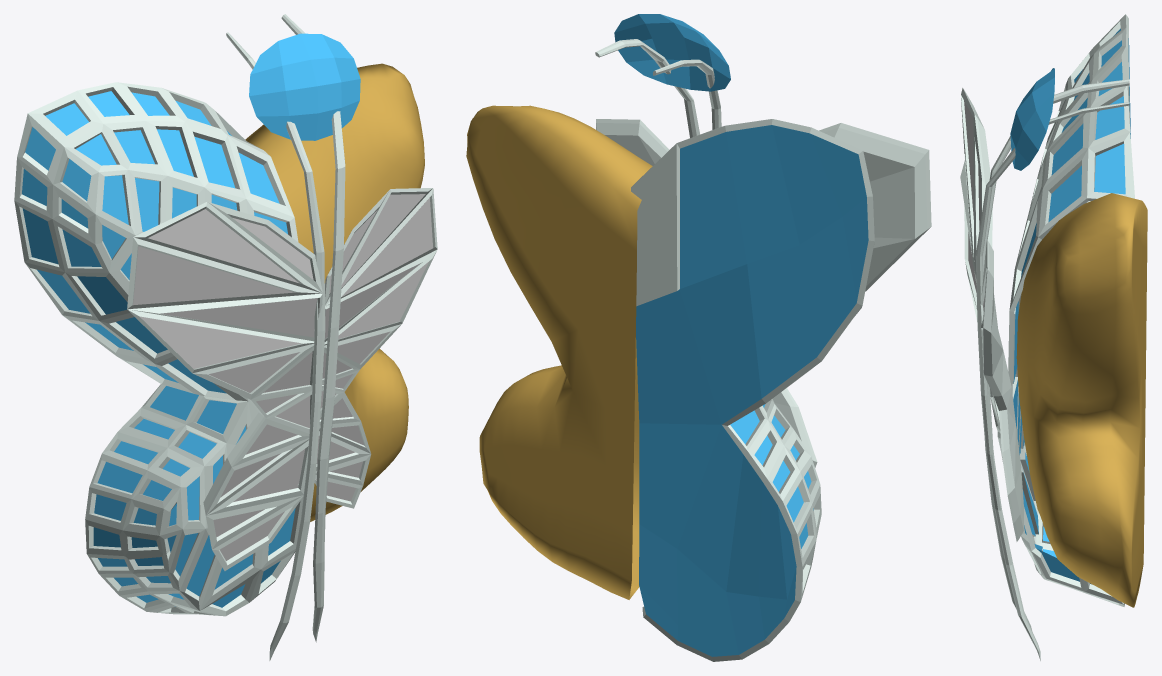
The picture shows the model from 3 angles, left to right: view 1: azimuth 30°, elevation 25°; view 2: azimuth 150°, elevation 25°; view 3: azimuth 270°, elevation 25°; orthographic projection. The views are drawn at different scales.
Parts seen in each view (by area): view 1: shadeBlue, shadeDarkGrey, shadeWhite; view 2: shadeBlue, shadeWhite, shadeDarkGrey; view 3: shadeWhite, shadeBlue, shadeDarkGrey.
Part boxes in pixels (<box>): shadeBlue: <box>14,33,360,616</box>; shadeDarkGrey: <box>127,14,437,660</box>; shadeWhite: <box>245,63,424,521</box>; shadeBlue: <box>614,14,874,661</box>; shadeWhite: <box>466,105,652,599</box>; shadeDarkGrey: <box>595,39,931,467</box>; shadeWhite: <box>1016,193,1147,607</box>; shadeBlue: <box>1008,14,1134,606</box>; shadeDarkGrey: <box>960,79,1129,661</box>.
Bounding box in the file's own units: 10.39 × 15.11 × 4.4.
